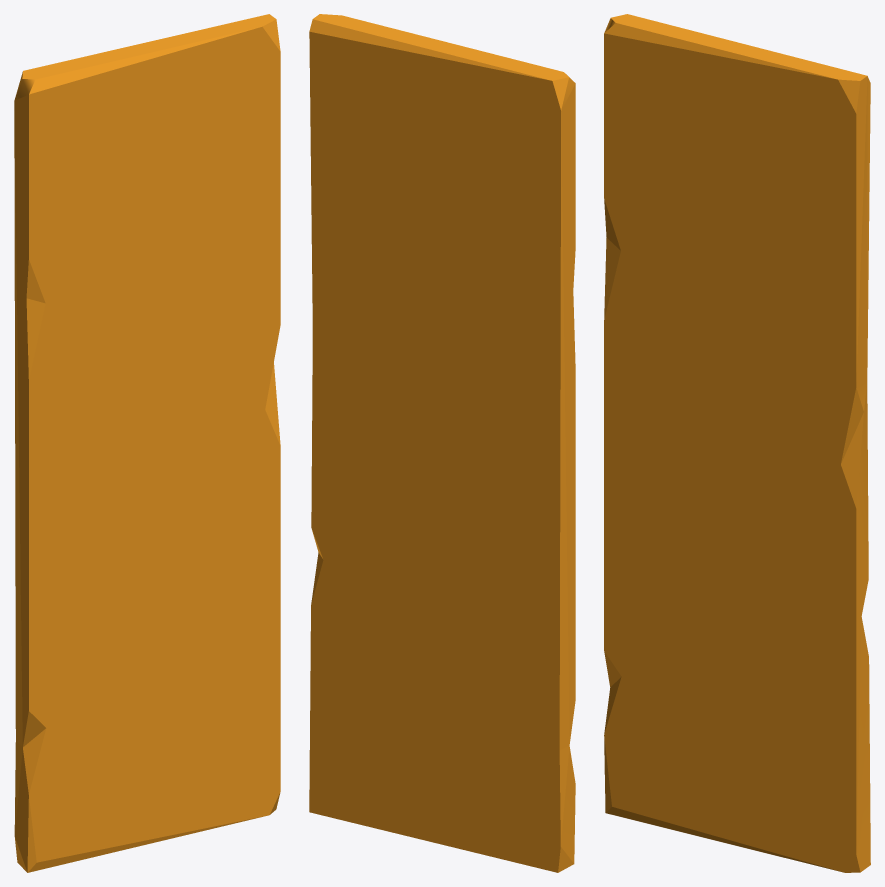
File: SM_Buildings_Wall_1x3_01P.fbx
3 renders of one model, left to right at view 1: azimuth 30°, elevation 25°; view 2: azimuth 150°, elevation 25°; view 3: azimuth 330°, elevation 25°, orthographic.
Visible parts, largest first — view 1: SM_Buildings_Wall_1x3_01P; view 2: SM_Buildings_Wall_1x3_01P; view 3: SM_Buildings_Wall_1x3_01P.
Part boxes in pixels (x1,y1,x2,y2): SM_Buildings_Wall_1x3_01P: (14, 14, 280, 872); SM_Buildings_Wall_1x3_01P: (309, 14, 575, 872); SM_Buildings_Wall_1x3_01P: (604, 14, 870, 872).
Size of the model in its own units: 100 by 300 by 10.
